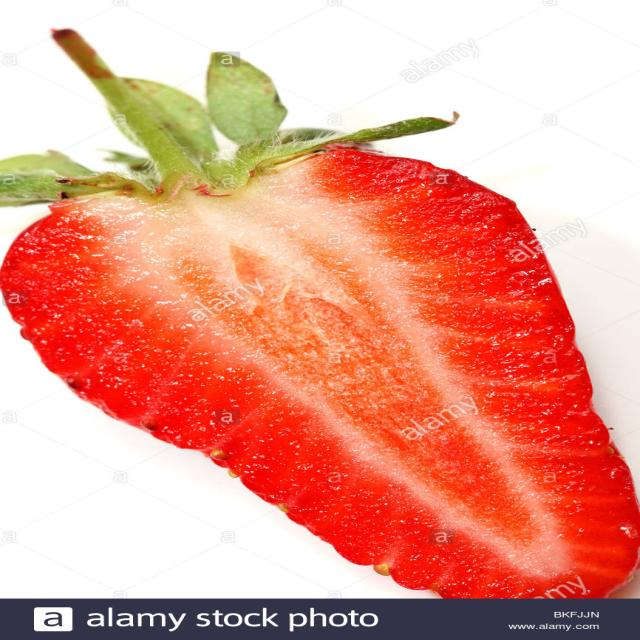strawberry: (0, 1, 640, 595)
